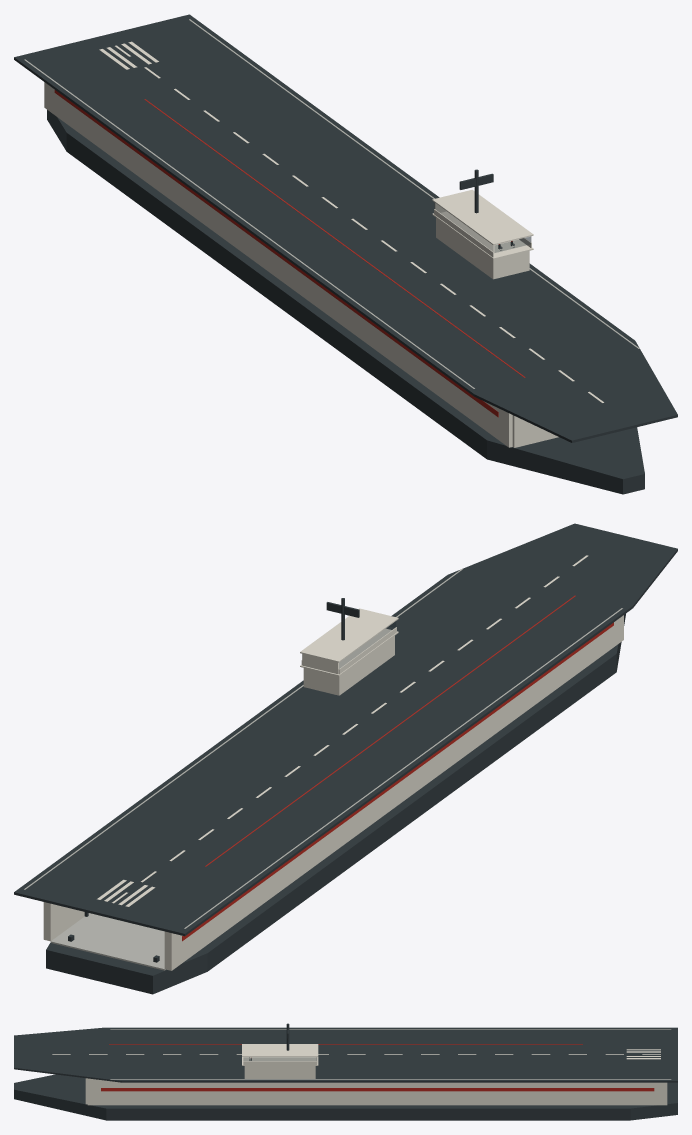
The picture shows the model from 3 angles, top to bottom: view 1: azimuth 30°, elevation 25°; view 2: azimuth 150°, elevation 25°; view 3: azimuth 270°, elevation 25°; orthographic projection. The views are drawn at different scales.
Parts seen in each view (by area): view 1: carrier-flight-deck-painted, aircraft-carrier-fleet-machine, aircraft-carrier-fleet-armor, aircraft-carrier-fleet-red; view 2: carrier-flight-deck-painted, aircraft-carrier-fleet-armor, aircraft-carrier-fleet-machine, aircraft-carrier-fleet-edge, aircraft-carrier-fleet-red; view 3: carrier-flight-deck-painted, aircraft-carrier-fleet-armor, aircraft-carrier-fleet-machine, aircraft-carrier-fleet-red, aircraft-carrier-fleet-glass.
Part boxes in pixels (x1,y1,x2,y2): carrier-flight-deck-painted: (14, 14, 677, 442); aircraft-carrier-fleet-machine: (47, 110, 644, 494); aircraft-carrier-fleet-armor: (44, 82, 558, 447); aircraft-carrier-fleet-red: (54, 90, 498, 417); carrier-flight-deck-painted: (14, 523, 677, 936); aircraft-carrier-fleet-armor: (43, 608, 623, 970); aircraft-carrier-fleet-machine: (46, 598, 625, 994); aircraft-carrier-fleet-edge: (50, 913, 165, 970); aircraft-carrier-fleet-red: (182, 622, 613, 941); carrier-flight-deck-painted: (14, 1027, 677, 1082); aircraft-carrier-fleet-armor: (85, 1044, 667, 1105); aircraft-carrier-fleet-machine: (14, 1023, 677, 1120); aircraft-carrier-fleet-red: (101, 1088, 654, 1091); aircraft-carrier-fleet-glass: (243, 1057, 316, 1060).
Size of the model in its own units: 253 by 205 by 1326.
